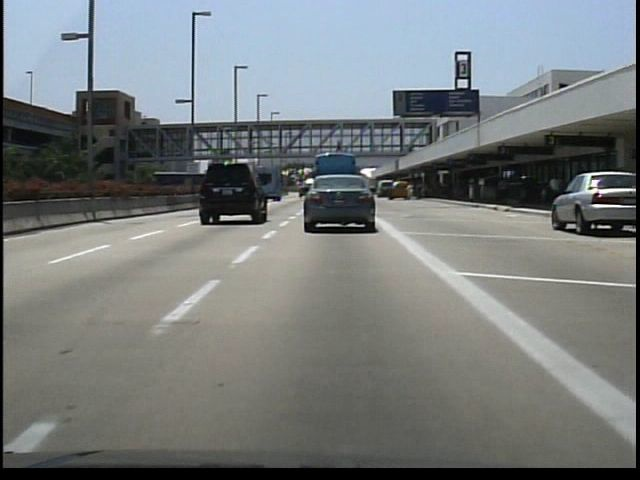person: (545, 170, 564, 211), (494, 174, 512, 209), (404, 178, 419, 206), (367, 137, 380, 159), (333, 136, 346, 156)
